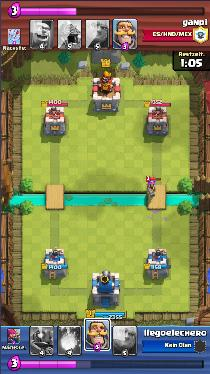enemy_musketeer: (146, 179, 157, 196)
